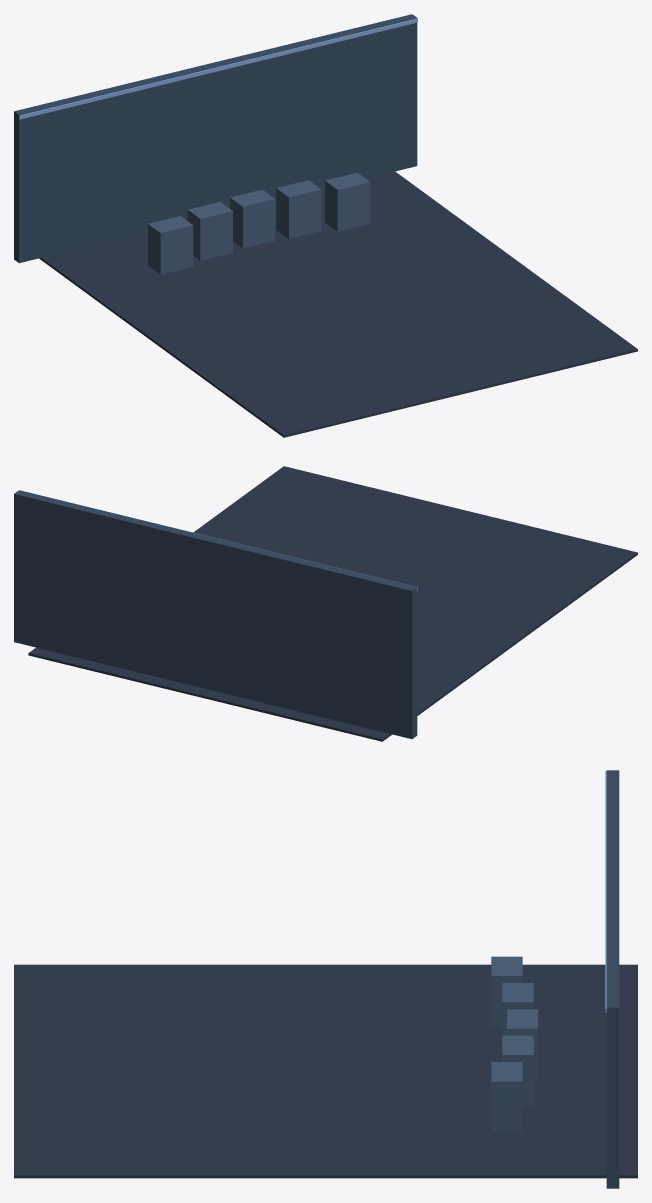
The model's file is studio_midnight.glb.
3 renders of one model, top to bottom at view 1: azimuth 30°, elevation 25°; view 2: azimuth 150°, elevation 25°; view 3: azimuth 270°, elevation 25°, orthographic. The views are drawn at different scales.
Parts seen in each view (by area): view 1: world; view 2: world; view 3: world.
Part boxes in pixels (x1,y1,x2,y2): world: (14,14,637,437); world: (14,466,637,741); world: (14,770,637,1188).
Bounding box in the file's own units: 9 × 3.25 × 10.
